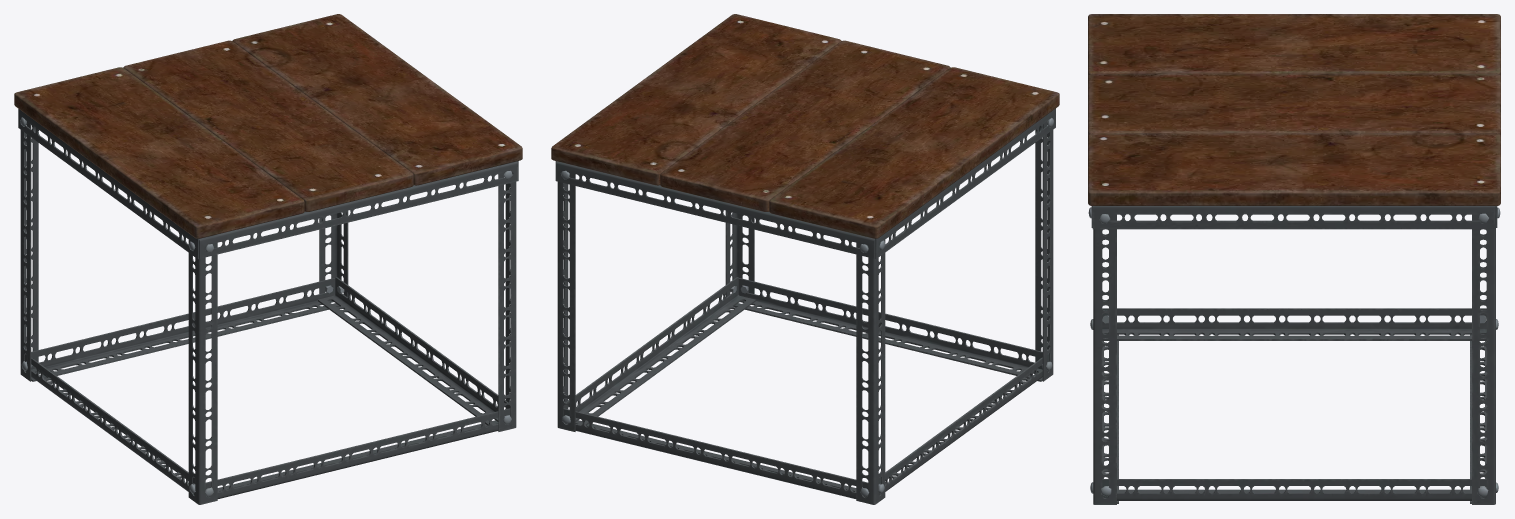
File: 1a2474e6-2fce-480a-be98-0b12c6b696ab.glb
The picture shows the model from 3 angles, left to right: view 1: azimuth 30°, elevation 25°; view 2: azimuth 150°, elevation 25°; view 3: azimuth 270°, elevation 25°; orthographic projection. The views are drawn at different scales.
Parts seen in each view (by area): view 1: industrial_coffee_table; view 2: industrial_coffee_table; view 3: industrial_coffee_table.
Part boxes in pixels (x1,y1,x2,y2): industrial_coffee_table: [14, 14, 522, 504]; industrial_coffee_table: [551, 14, 1059, 504]; industrial_coffee_table: [1088, 14, 1500, 504].
Bounding box in the file's own units: 0.7783 × 0.6384 × 0.7579.
1 material, 1 textured.
